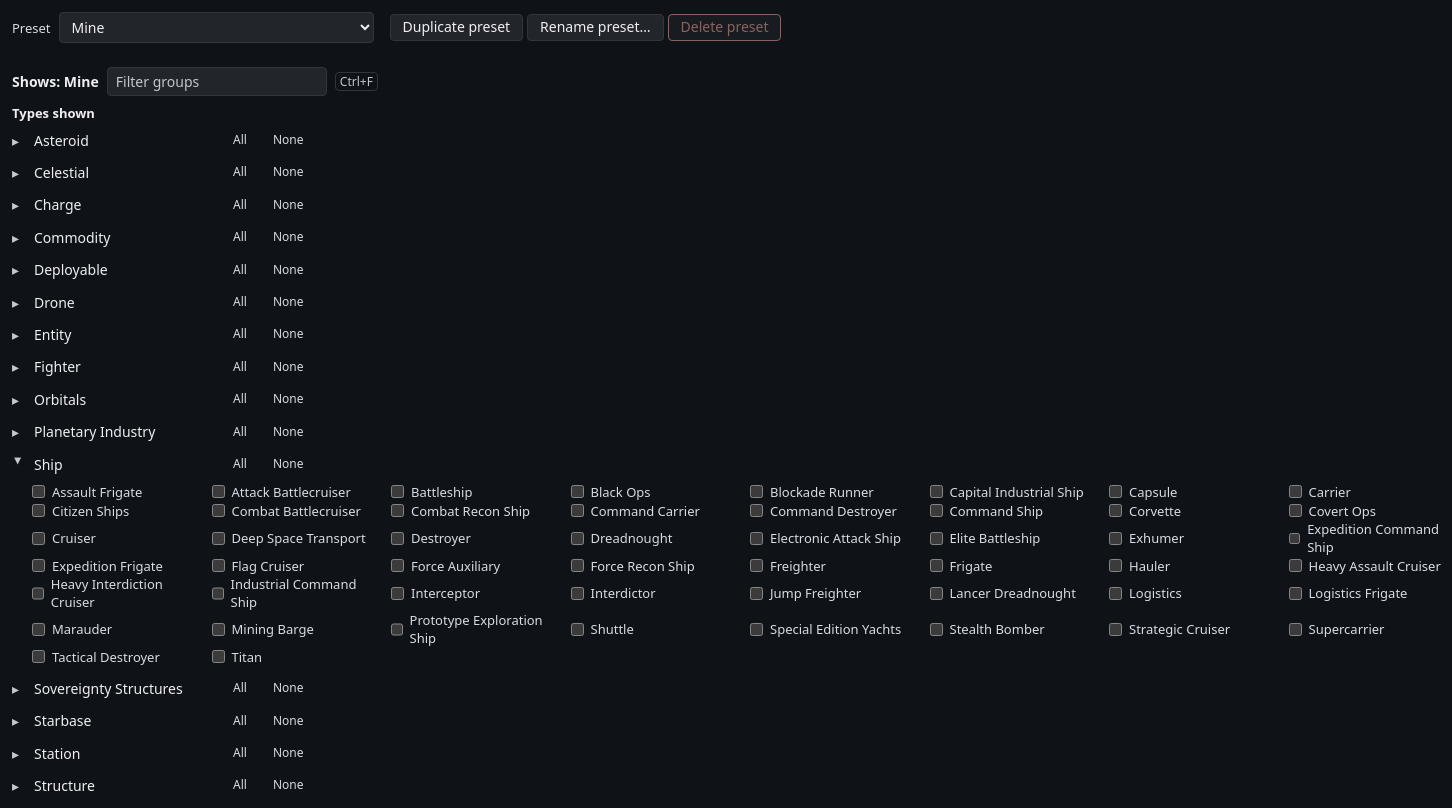
Test: the group filter › a category the user opened by hand survives a filter round trip
Type "shuttle" into the search field with class "group-filter". click: (217, 82)
box: [107, 67, 327, 96]
Wait 200 ms
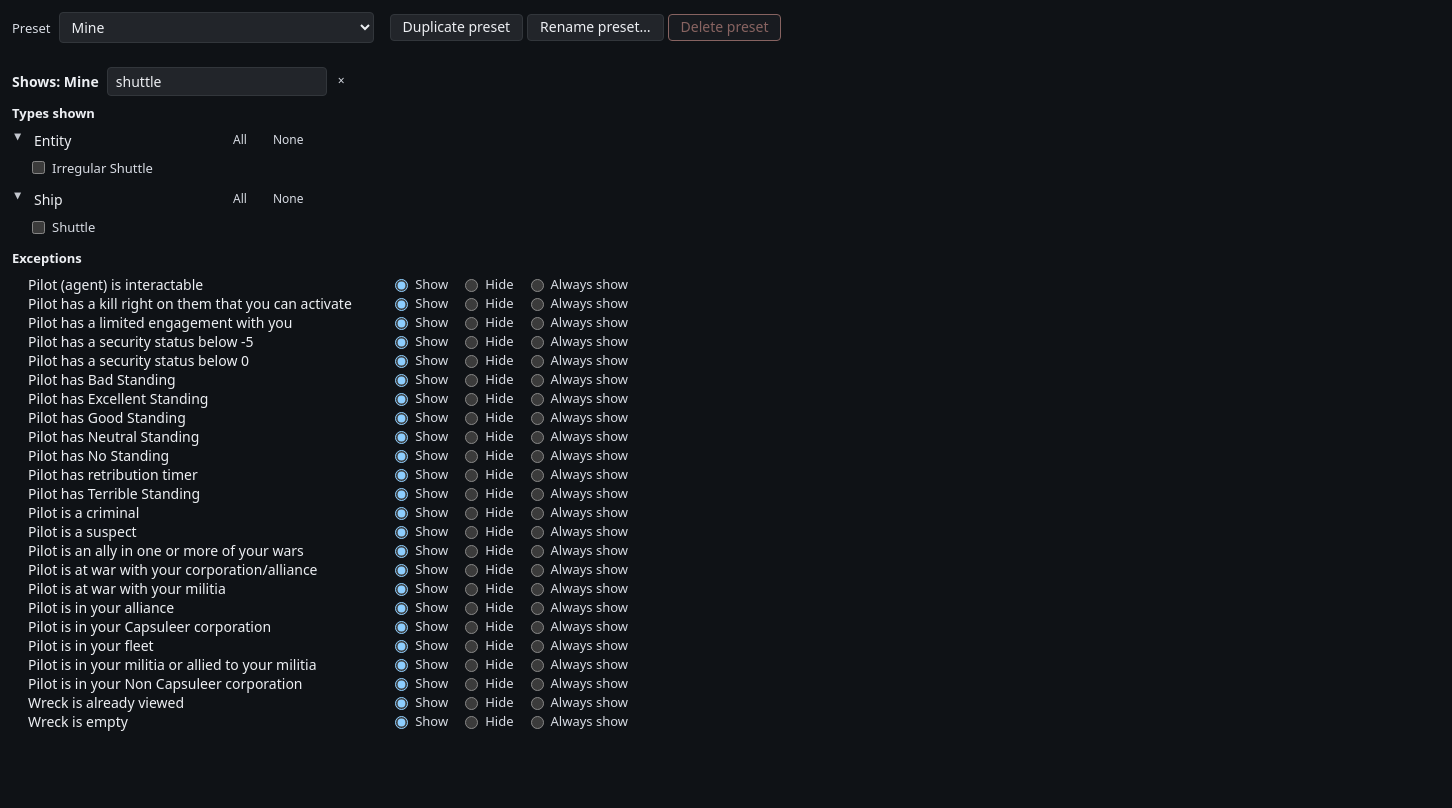
Clear the search field with class "group-filter". click: (217, 82)
box: [107, 67, 327, 96]
Wait 200 ms
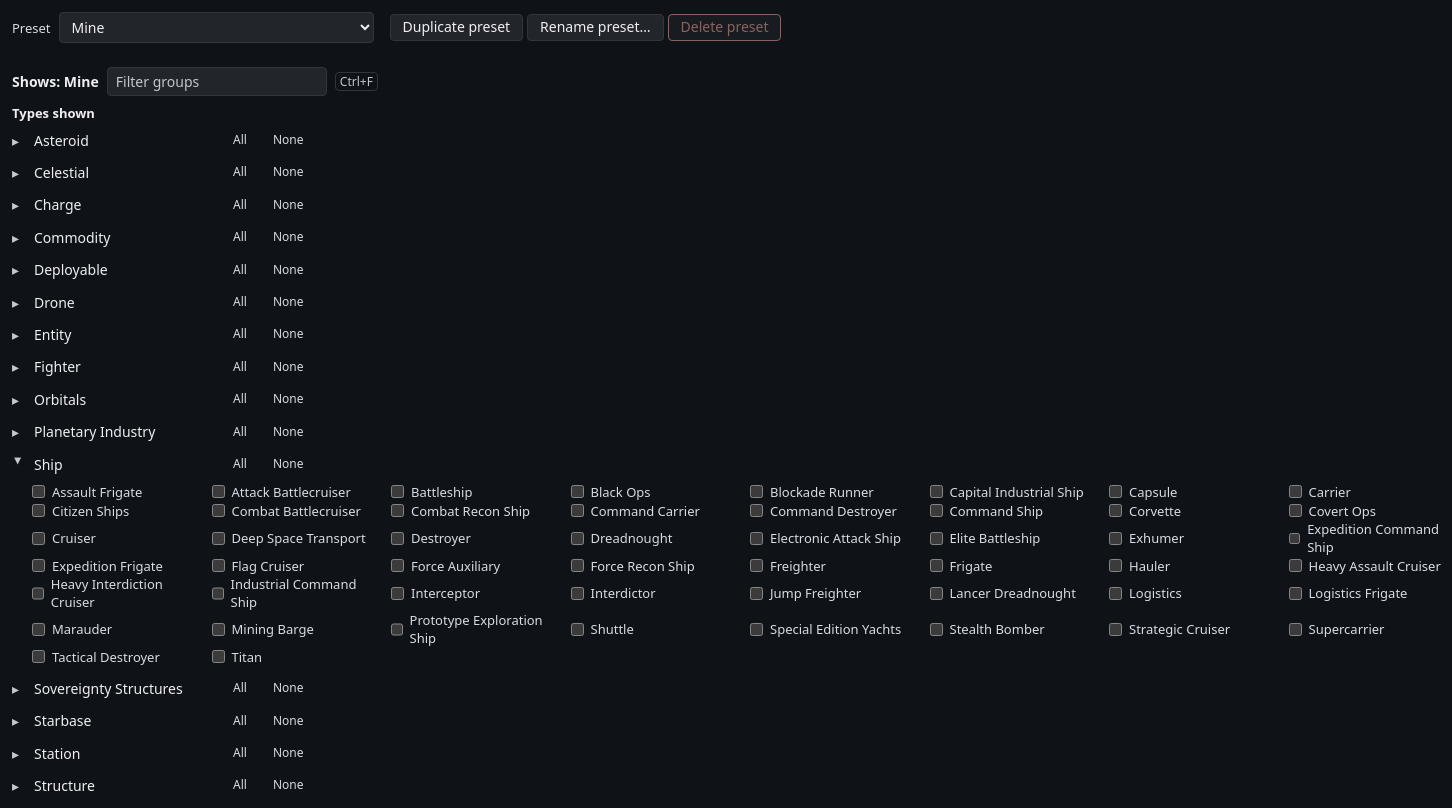
Expected: the number of checkboxes is 50
